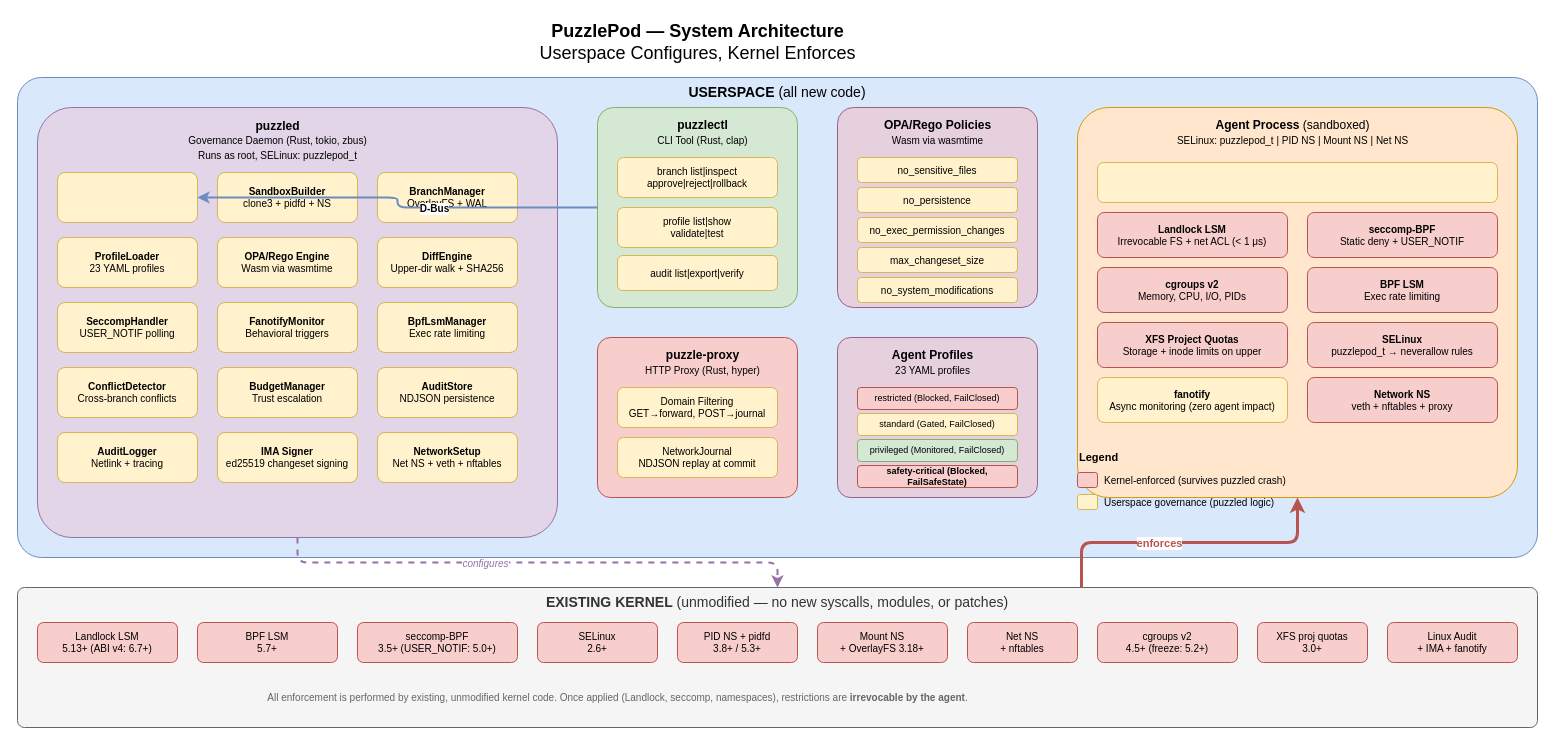
The diagram is 1555 pixels wide and 745 high, and some of its shapes have lost their labels. The centre of each missing label's shape, as x and y in pixels:
"D-Bus API org.lobstertrap.PuzzlePod1" goes at [127,197].
"OverlayFS merged = lower (base) + upper (writes)" goes at [1297,182].
